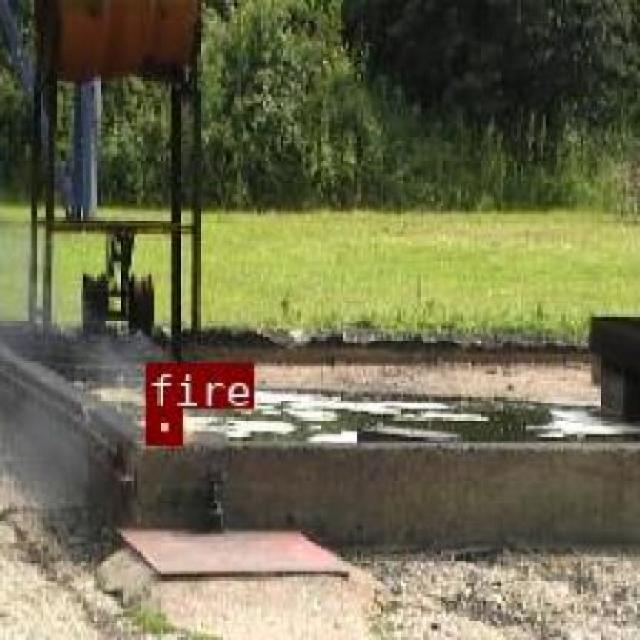Fire: (36, 37, 162, 424)
